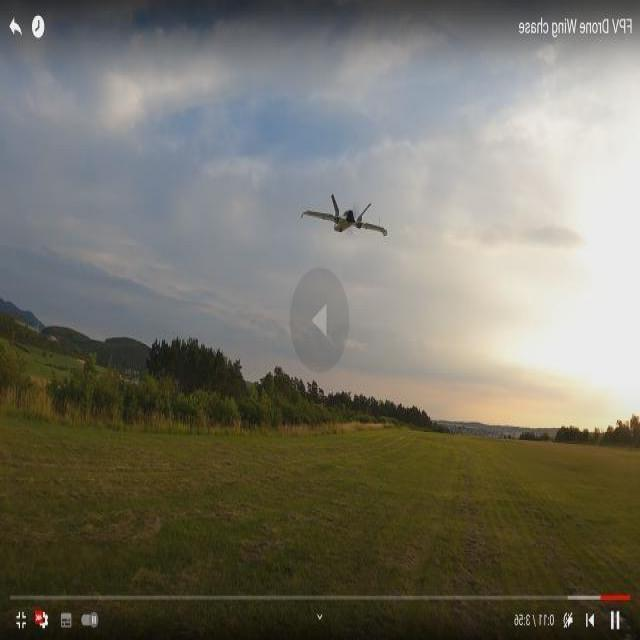Airplane: (298, 192, 393, 248)
